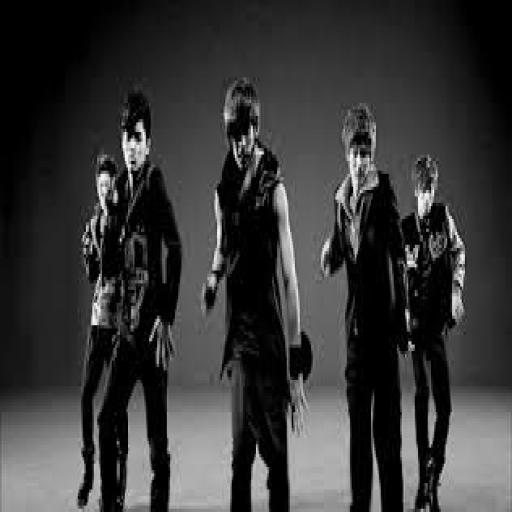dancing: (199, 74, 313, 509), (318, 100, 413, 509), (96, 87, 184, 509), (392, 125, 481, 512), (63, 108, 152, 477)
